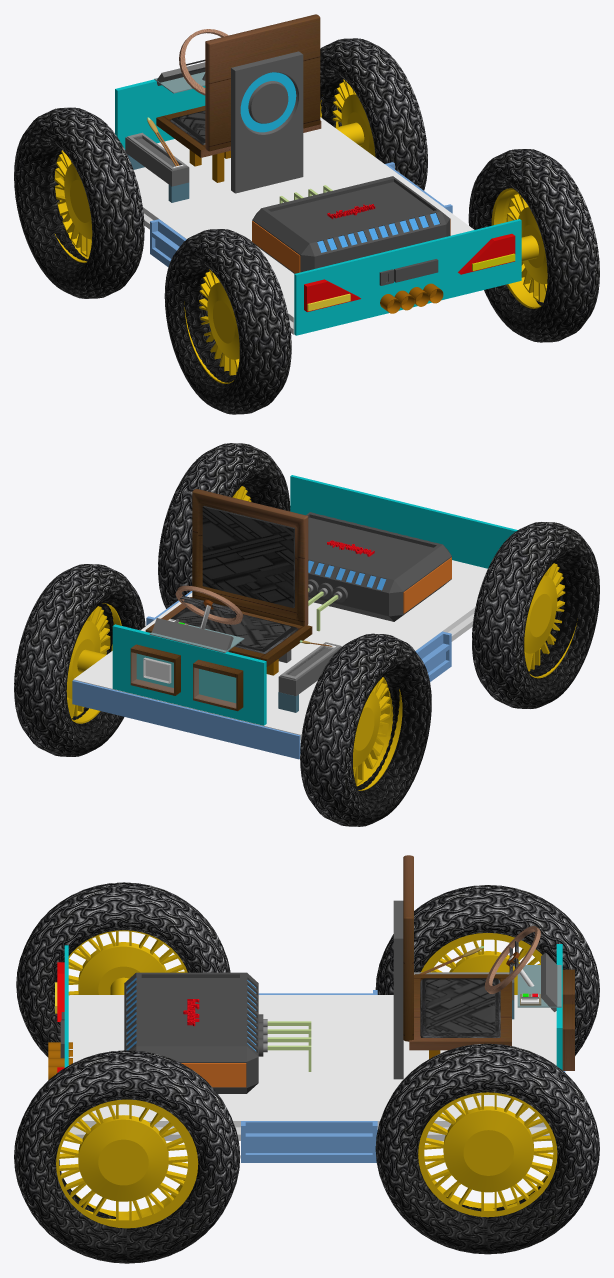
The model's file is carro.gltf.
The picture shows the model from 3 angles, top to bottom: view 1: azimuth 30°, elevation 25°; view 2: azimuth 150°, elevation 25°; view 3: azimuth 270°, elevation 25°; orthographic projection. The views are drawn at different scales.
Visible parts, largest first — view 1: Torus.001_9, Cube.001_4, Cube.006_10, Cube.007_11, Cube.015_22, Cube.016_23, Cylinder.001_3, Cylinder_2, Cube.017_24, Cube.042_54, Cube.033_42, Cube.045_58 (+8 smaller); view 2: Torus.001_9, Cube.001_4, Cube.007_11, Cube.006_10, Cube.040_52, Cube.017_24, Cylinder_2, Cube.002_5, Cube.016_23, Cylinder.001_3, Cube.041_51, Cube.022_49 (+11 smaller); view 3: Torus.001_9, Cube.001_4, Cylinder.001_3, Cylinder_2, Cube.007_11, Cube.005_8, Cube.014_21, Cube.010_19, Cube.016_23, Cube.015_22, Cube.022_49, Cube.009_14 (+10 smaller).
Boxes of the visible parts, x1,y1,x2,y2 form: Torus.001_9: [14, 38, 599, 414]; Cube.001_4: [133, 117, 474, 322]; Cube.006_10: [294, 219, 521, 335]; Cube.007_11: [252, 176, 450, 273]; Cube.015_22: [231, 51, 303, 193]; Cube.016_23: [205, 14, 320, 151]; Cylinder.001_3: [184, 188, 547, 383]; Cylinder_2: [54, 79, 375, 262]; Cube.017_24: [115, 79, 205, 149]; Cube.042_54: [304, 233, 515, 311]; Cube.033_42: [125, 136, 189, 186]; Cube.045_58: [240, 72, 296, 132]; Torus.001_9: [14, 443, 599, 826]; Cube.001_4: [73, 560, 487, 740]; Cube.007_11: [306, 512, 451, 621]; Cube.006_10: [290, 475, 517, 568]; Cube.040_52: [202, 506, 294, 608]; Cube.017_24: [112, 624, 266, 725]; Cylinder_2: [66, 603, 402, 790]; Cube.002_5: [72, 680, 300, 759]; Cube.016_23: [192, 489, 308, 626]; Cylinder.001_3: [232, 486, 577, 678]; Cube.041_51: [131, 652, 235, 707]; Cube.022_49: [130, 644, 243, 711]; Torus.001_9: [14, 882, 599, 1263]; Cube.001_4: [70, 995, 556, 1127]; Cylinder.001_3: [56, 930, 198, 1228]; Cylinder_2: [418, 933, 557, 1217]; Cube.007_11: [124, 972, 258, 1093]; Cube.005_8: [241, 1121, 377, 1162]; Cube.014_21: [425, 979, 495, 1032]; Cube.010_19: [409, 974, 511, 1050]; Cube.016_23: [403, 855, 413, 1041]; Cube.015_22: [393, 900, 403, 1079]; Cube.022_49: [562, 969, 574, 1070]; Cube.009_14: [181, 1063, 246, 1087].
Size of the model in its own units: 10.43 by 7.07 by 12.95.
54 materials, 10 textured.
